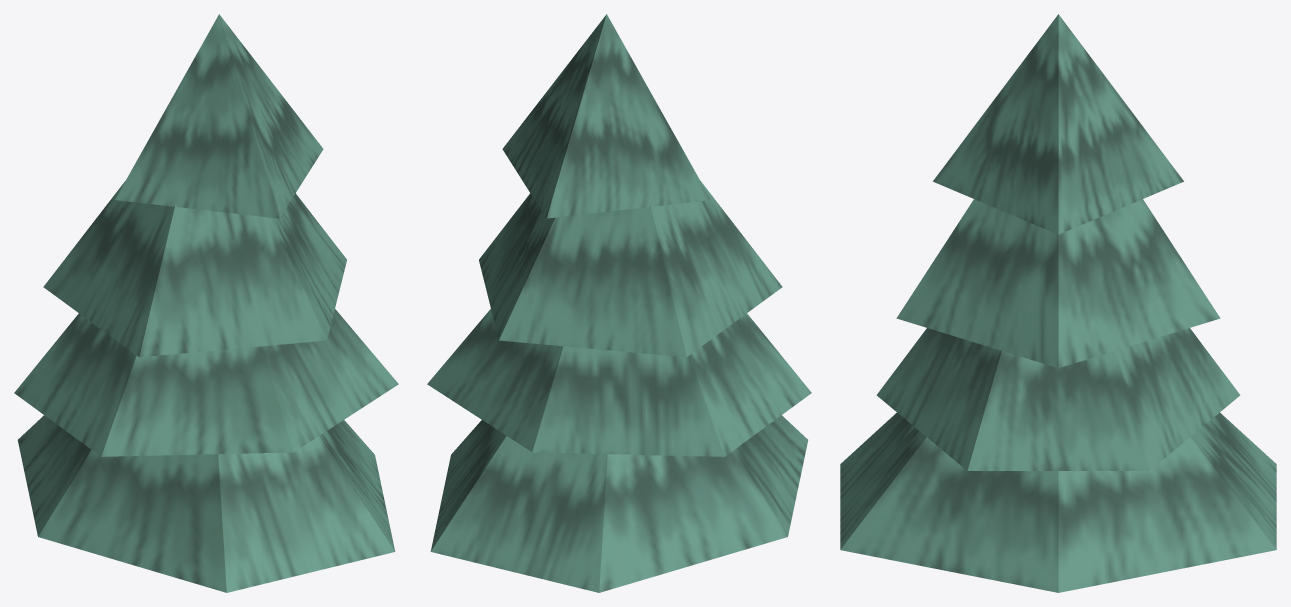
Rendered from env_Tree_Coniferous_A.fbx.
The picture shows the model from 3 angles, left to right: view 1: azimuth 30°, elevation 25°; view 2: azimuth 150°, elevation 25°; view 3: azimuth 270°, elevation 25°; orthographic projection. The views are drawn at different scales.
Visible parts, largest first — view 1: env_Tree_Coniferous_A; view 2: env_Tree_Coniferous_A; view 3: env_Tree_Coniferous_A.
Boxes of the visible parts, <box> form: env_Tree_Coniferous_A: <box>14,14,398,592</box>; env_Tree_Coniferous_A: <box>427,14,811,592</box>; env_Tree_Coniferous_A: <box>840,14,1276,592</box>.
Bounding box in the file's own units: 476 × 647 × 512.
